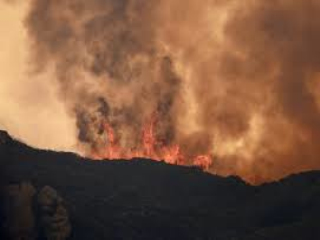fire: (96, 129, 218, 173)
smoke: (31, 7, 308, 130)
